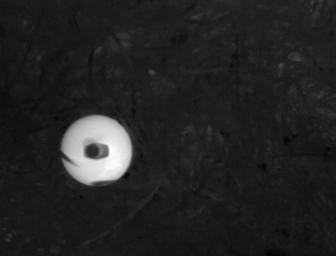landmine: (59, 113, 134, 187)
